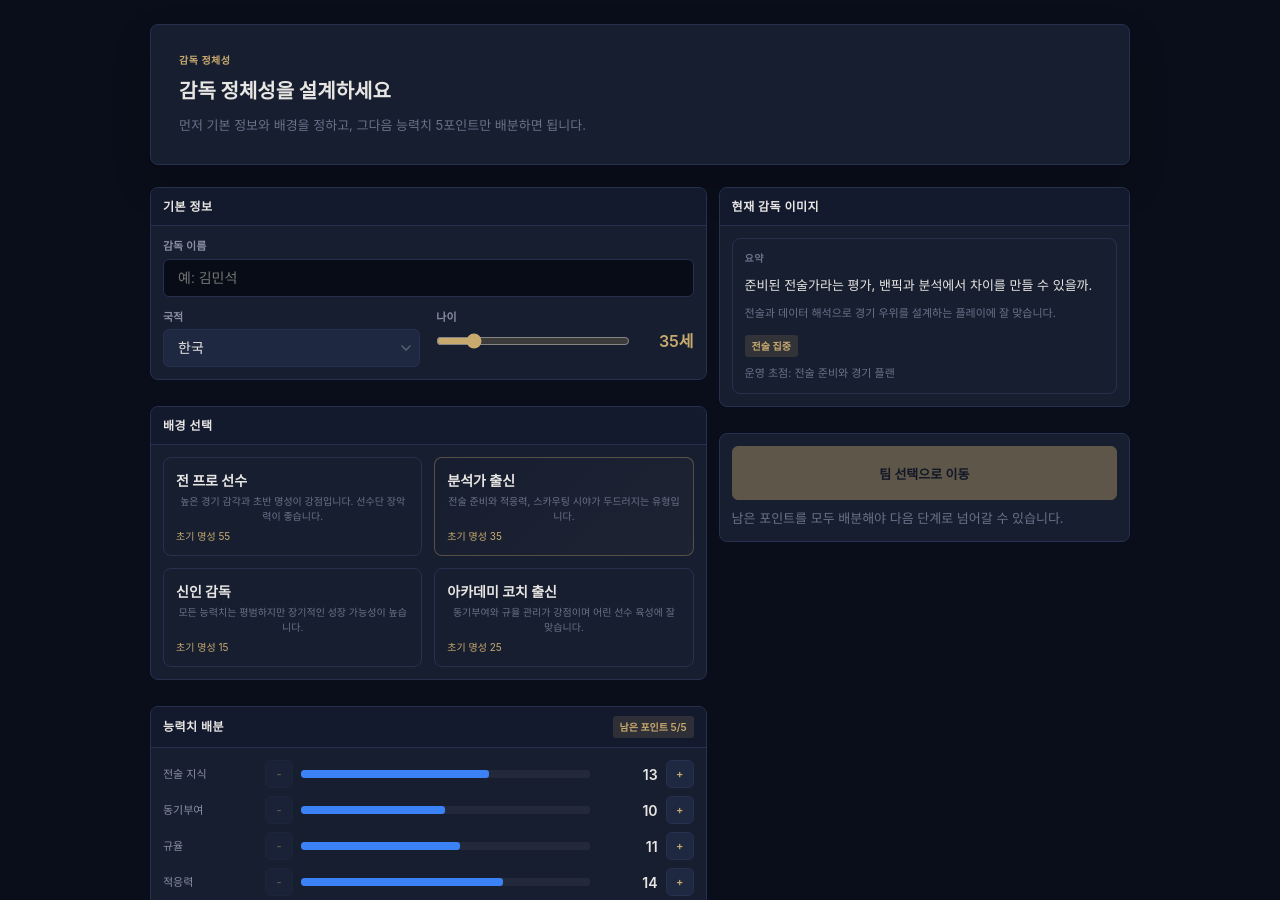
Test case: ManagerCreate › updates compact manager summary when background changes
Expected: the text "요약" is shown, [745, 252, 764, 264]
Expected: the text "준비된 전술가라는 평가, 밴픽과 분석에서 차이를 만들 수 있을까." is shown, [745, 274, 1104, 296]
Click the button "전 프로 선수 높은 경기 감각과 초반 명성이 강점입니다. 선수단 장악력이 좋습니다. 초기 명성 55" at [293, 507], box [163, 457, 422, 556]
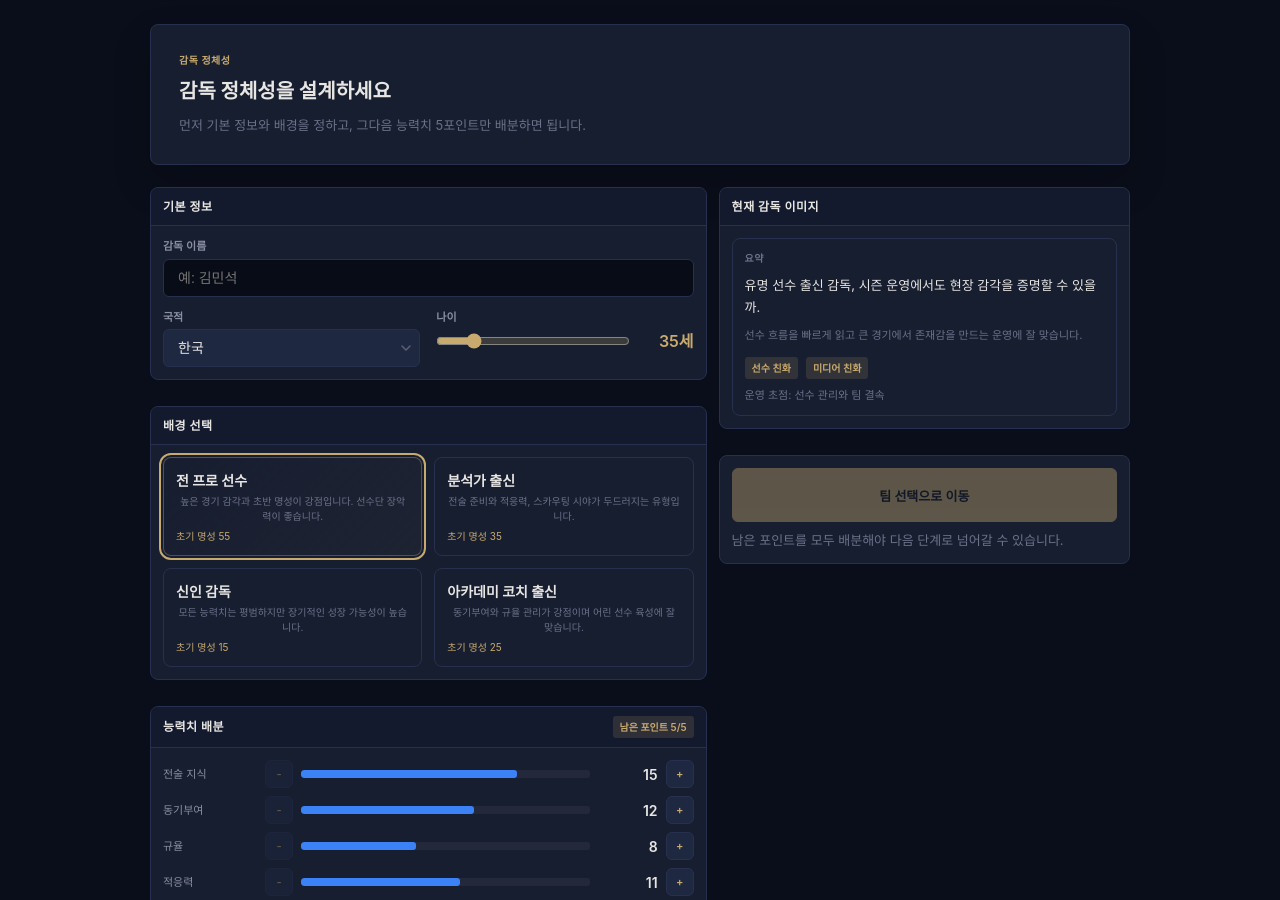
Expected: the text "남은 포인트를 모두 배분해야 다음 단계로 넘어갈 수 있습니다." is shown, [732, 530, 1117, 551]
Result: the text "유명 선수 출신 감독, 시즌 운영에서도 현장 감각을 증명할 수 있을까." is shown at [745, 274, 1104, 318]
Result: the text "선수 흐름을 빠르게 읽고 큰 경기에서 존재감을 만드는 운영에 잘 맞습니다." is shown at [745, 326, 1104, 345]
